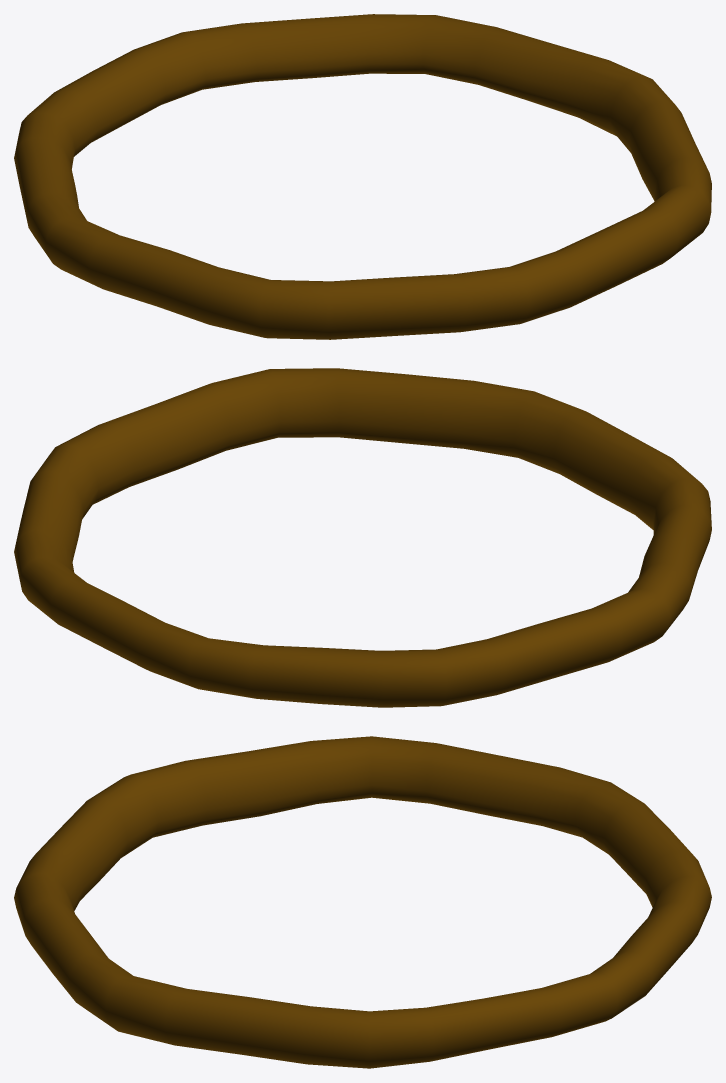
The model's file is Pie_Crust.fbx.
3 renders of one model, top to bottom at view 1: azimuth 30°, elevation 25°; view 2: azimuth 150°, elevation 25°; view 3: azimuth 270°, elevation 25°, orthographic.
Parts seen in each view (by area): view 1: Crust_Smooth; view 2: Crust_Smooth; view 3: Crust_Smooth.
Boxes of the visible parts, x1,y1,x2,y2 form: Crust_Smooth: [14, 14, 711, 339]; Crust_Smooth: [14, 368, 711, 707]; Crust_Smooth: [14, 736, 711, 1068].
Bounding box in the file's own units: 241 × 22.13 × 238.
